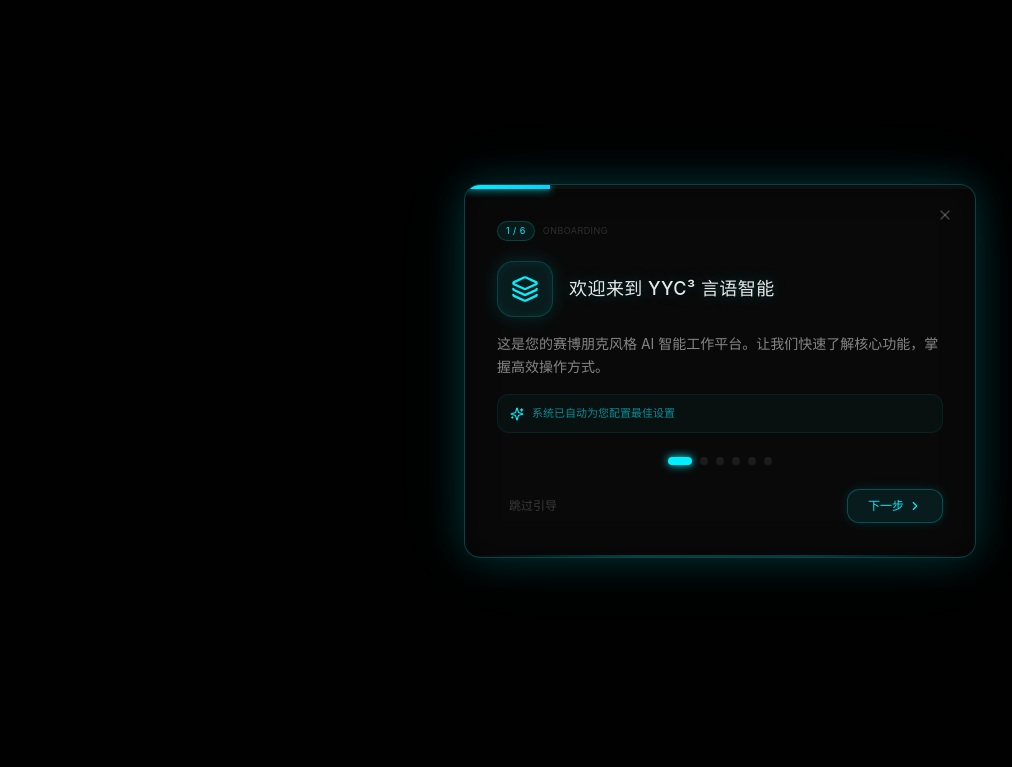
Test: OnboardingTutorial › 点击下一步推进步骤,点击上一步回退
Click the 7th button "下一步". click: (895, 506)
box: [847, 489, 943, 523]
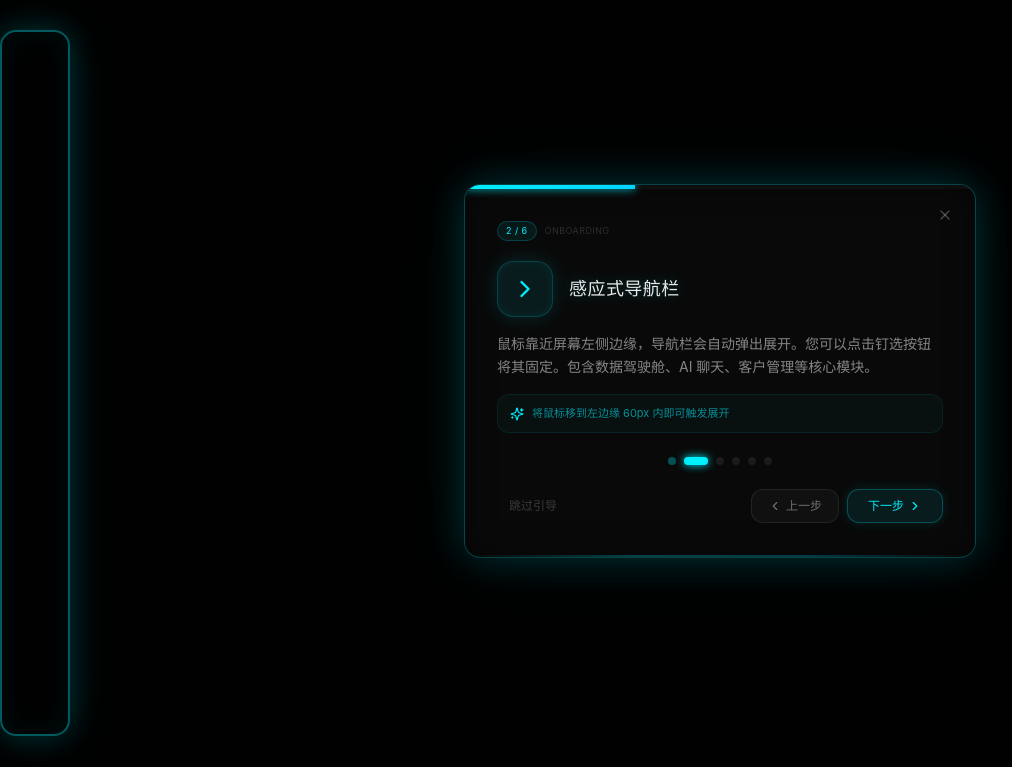
Result: the heading "感应式导航栏" is shown at [569, 275, 680, 303]
Result: the button "上一步" is shown
Click the button "上一步". click: (795, 506)
box: [751, 489, 839, 523]
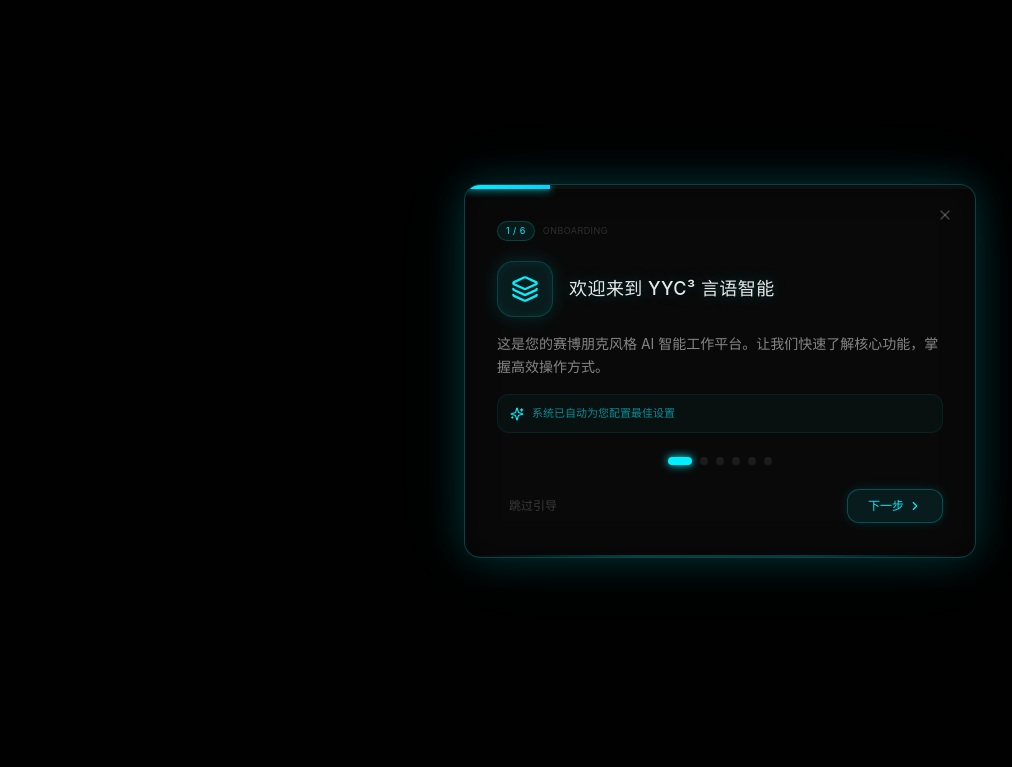
Result: the heading "欢迎来到 YYC³ 言语智能" is shown at [569, 275, 775, 303]
Result: the button "上一步" is gone
